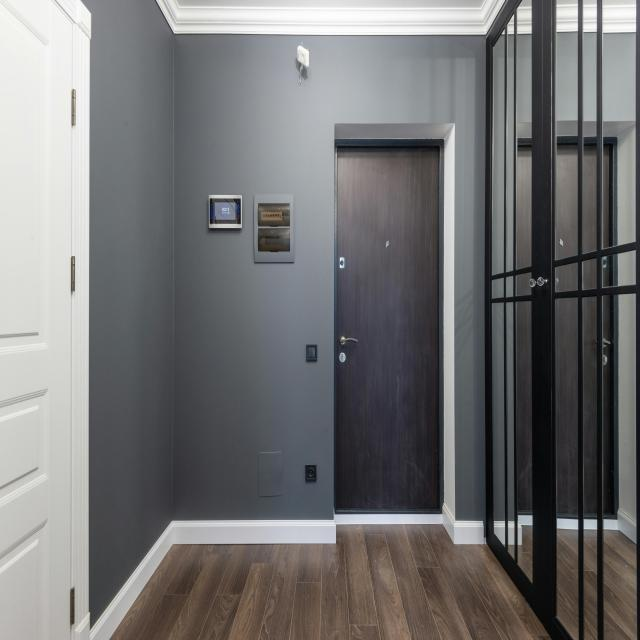door-handle: (340, 335, 358, 345)
